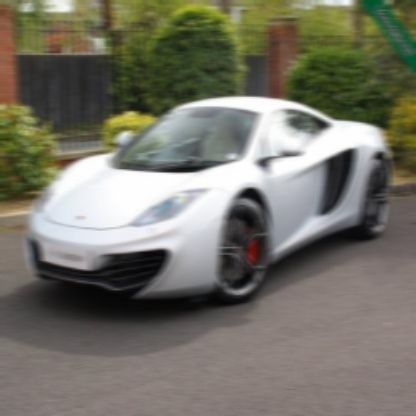Vehicle: (24, 94, 391, 306)
